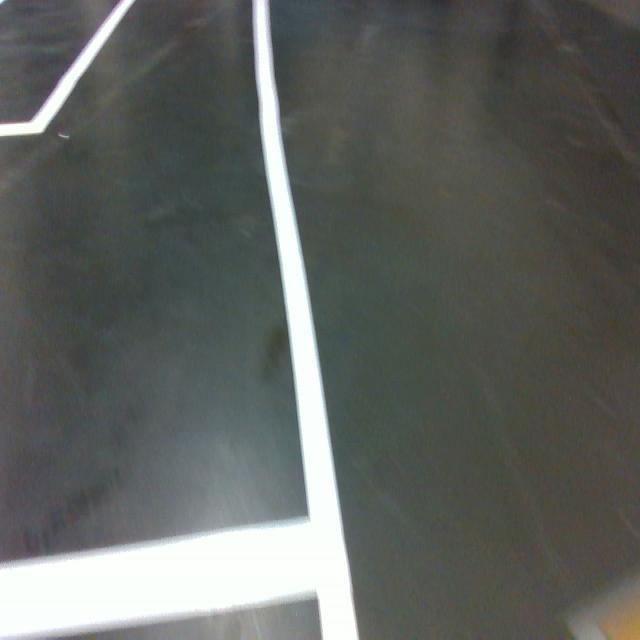priority-sign: (557, 568, 640, 640)
